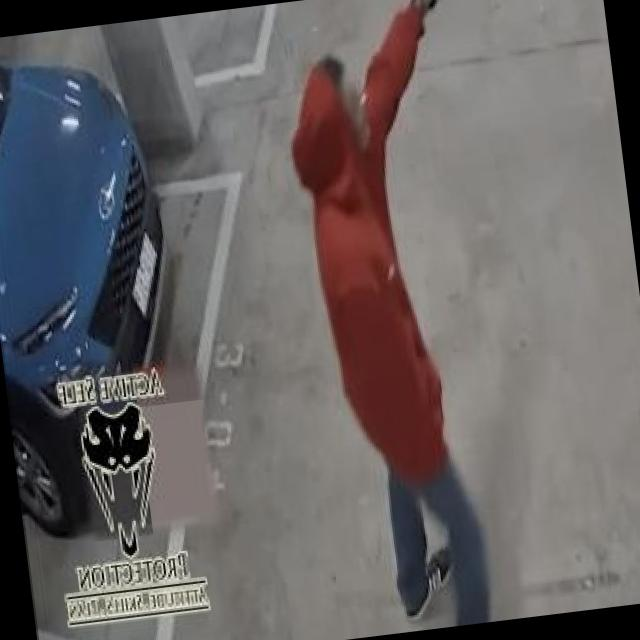Guns: (404, 0, 465, 17)
